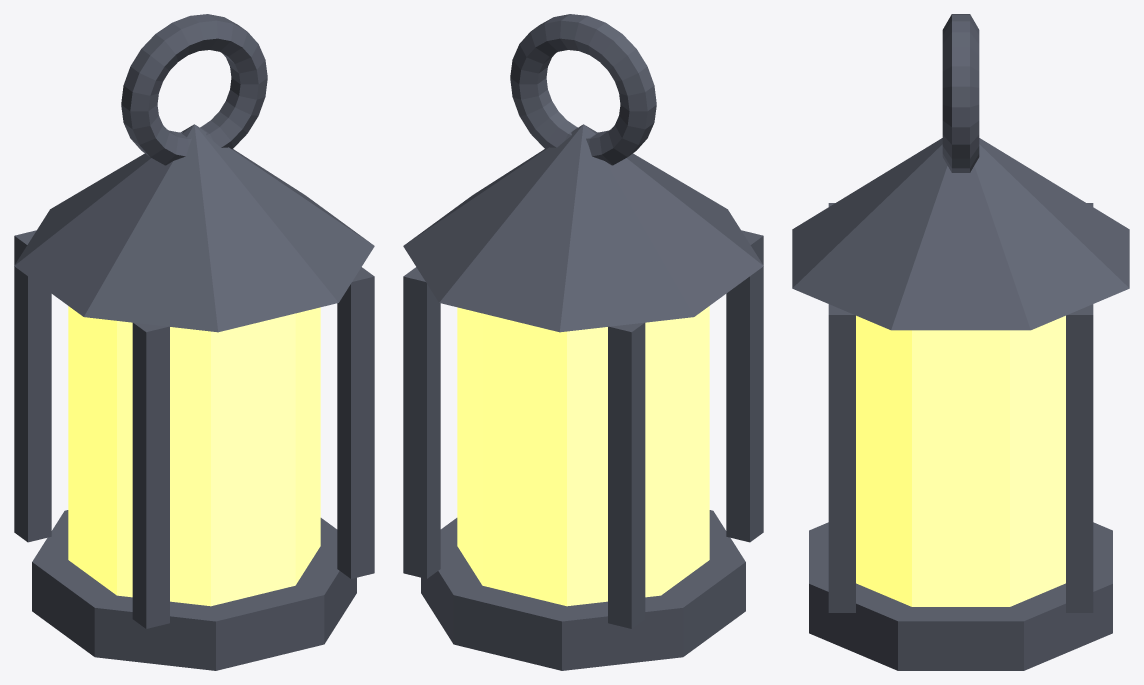
File: lantern.glb
3 renders of one model, left to right at view 1: azimuth 30°, elevation 25°; view 2: azimuth 150°, elevation 25°; view 3: azimuth 270°, elevation 25°, orthographic.
Visible parts, largest first — view 1: lantern; view 2: lantern; view 3: lantern.
Boxes of the visible parts, left/top/right/bottom form: lantern: left=14, top=14, right=374, bottom=670; lantern: left=403, top=14, right=763, bottom=670; lantern: left=792, top=14, right=1129, bottom=670.
Size of the model in its own units: 0.1848 by 0.3537 by 0.1848.
